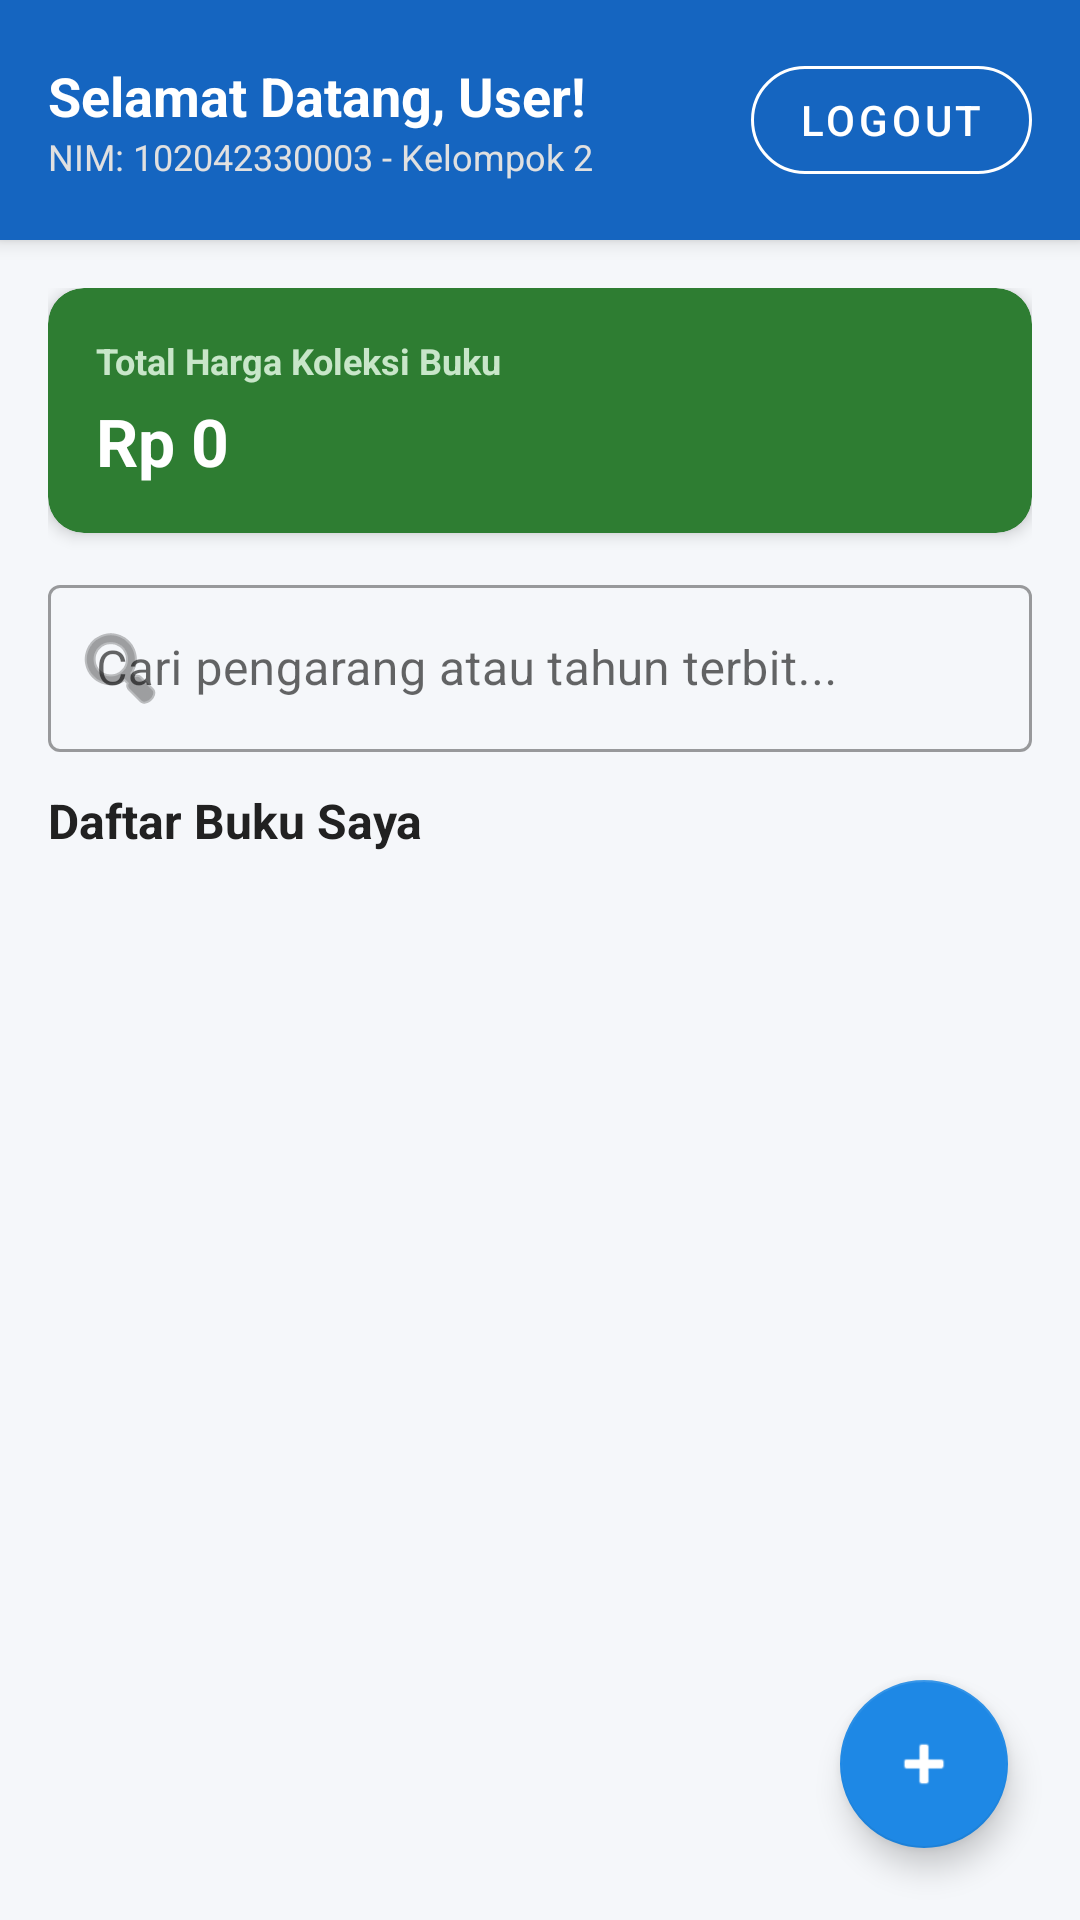

Icon bounding boxes for this 1080 × 1920 phone screenshot, format {"left": x1, "top": y1, "right": x2, "bottom": y2}:
Tambah Buku: {"left": 840, "top": 1680, "right": 1008, "bottom": 1848}
